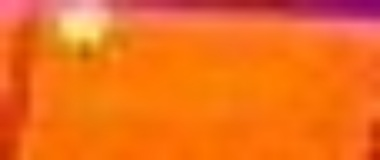Hotspot: (53, 2, 121, 49)
